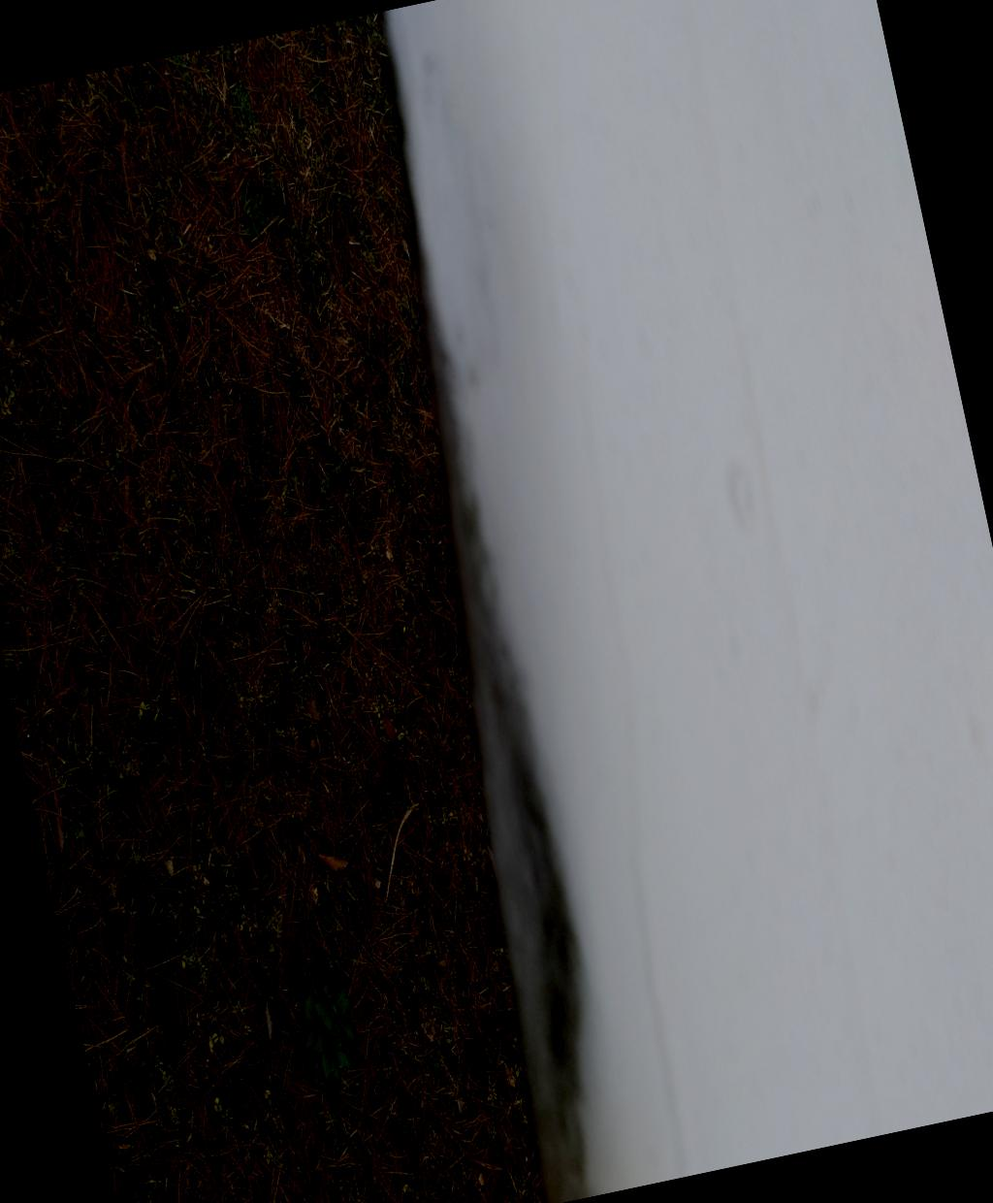dent: (856, 935, 993, 1133)
